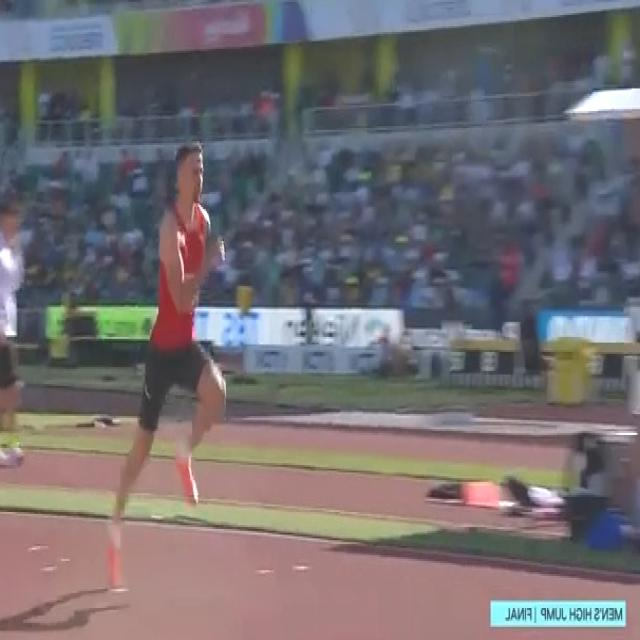run: (107, 136, 231, 588)
